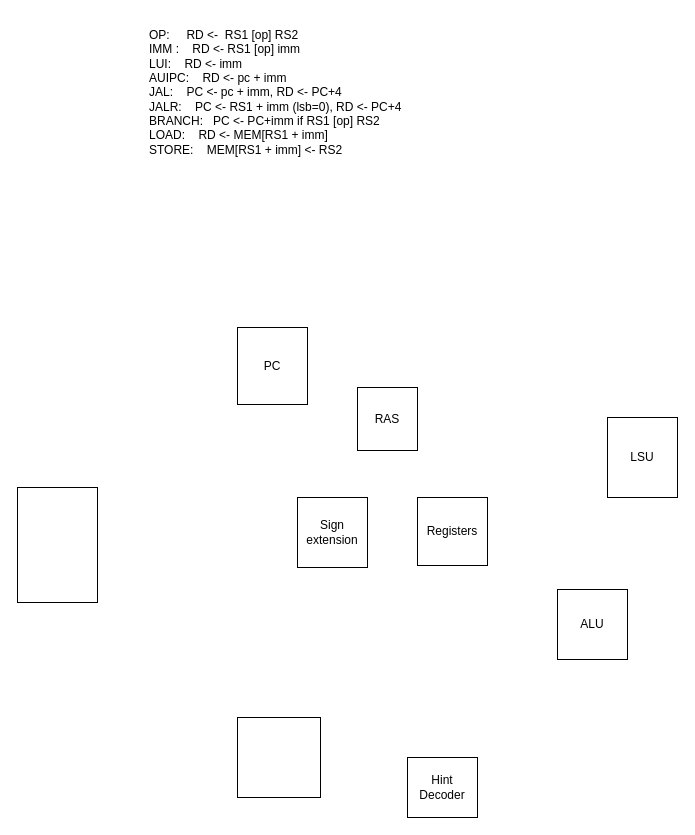
Image size: 695x835. Some labels were removed from this diagram. The centre of each missing label's shape, as x and y in pixels:
Illegal Decoder: pixel 278 757
Instruction queue: pixel 57 544
